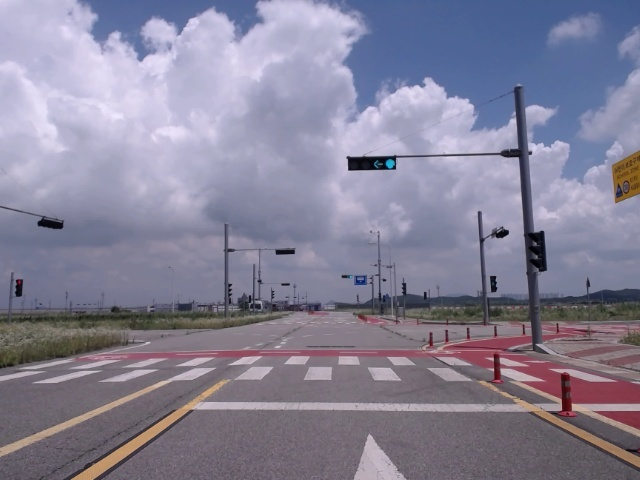all_green_4: (348, 154, 395, 166)
